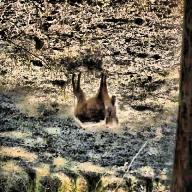boar: (68, 67, 134, 140)
